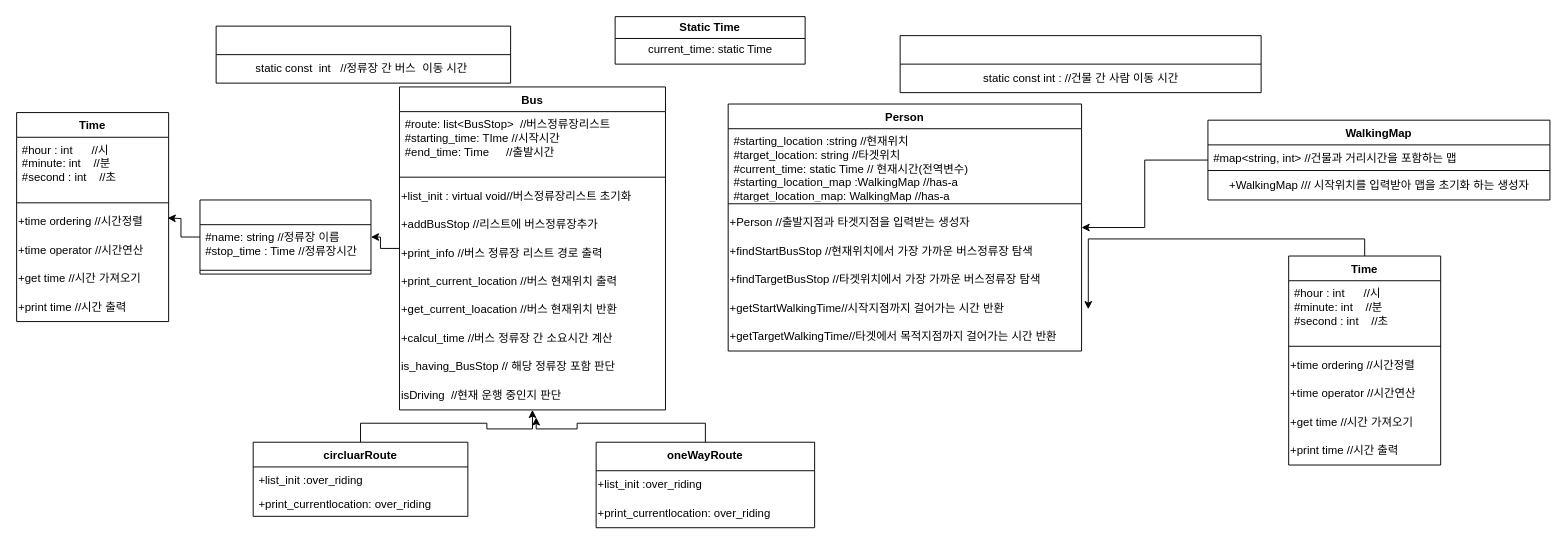
The diagram is 1567 pixels wide and 544 high, and some of its shapes have lost their labels. The box of each missing label's shape, as (x1, y1, x2, y2) in pixels:
BusStop: (199, 199, 371, 274)
DrivingTime: (215, 25, 511, 83)
WalkingTime: (899, 35, 1261, 93)
